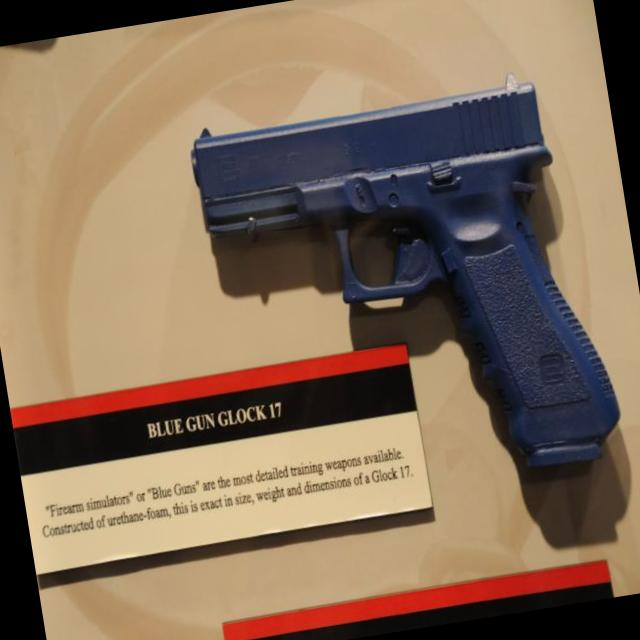Gun: (191, 79, 622, 486)
